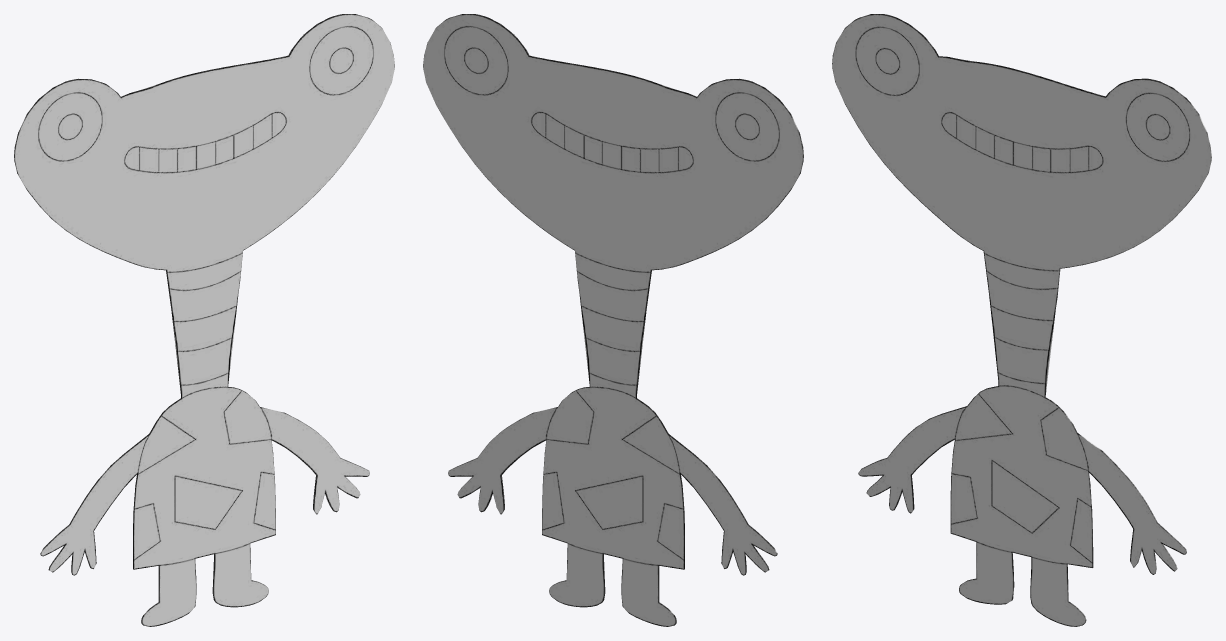
File: 30_bori-01.fbx
The picture shows the model from 3 angles, left to right: view 1: azimuth 30°, elevation 25°; view 2: azimuth 150°, elevation 25°; view 3: azimuth 330°, elevation 25°; orthographic projection.
Parts seen in each view (by area): view 1: planarTrimmedSurface12; view 2: planarTrimmedSurface12; view 3: planarTrimmedSurface12.
Part boxes in pixels (x1,y1,x2,y2): planarTrimmedSurface12: (14,14,394,626); planarTrimmedSurface12: (423,14,803,626); planarTrimmedSurface12: (832,14,1211,626).
Bounding box in the file's own units: 25.02 × 35.75 × 0.0727.
1 material, 1 textured.
